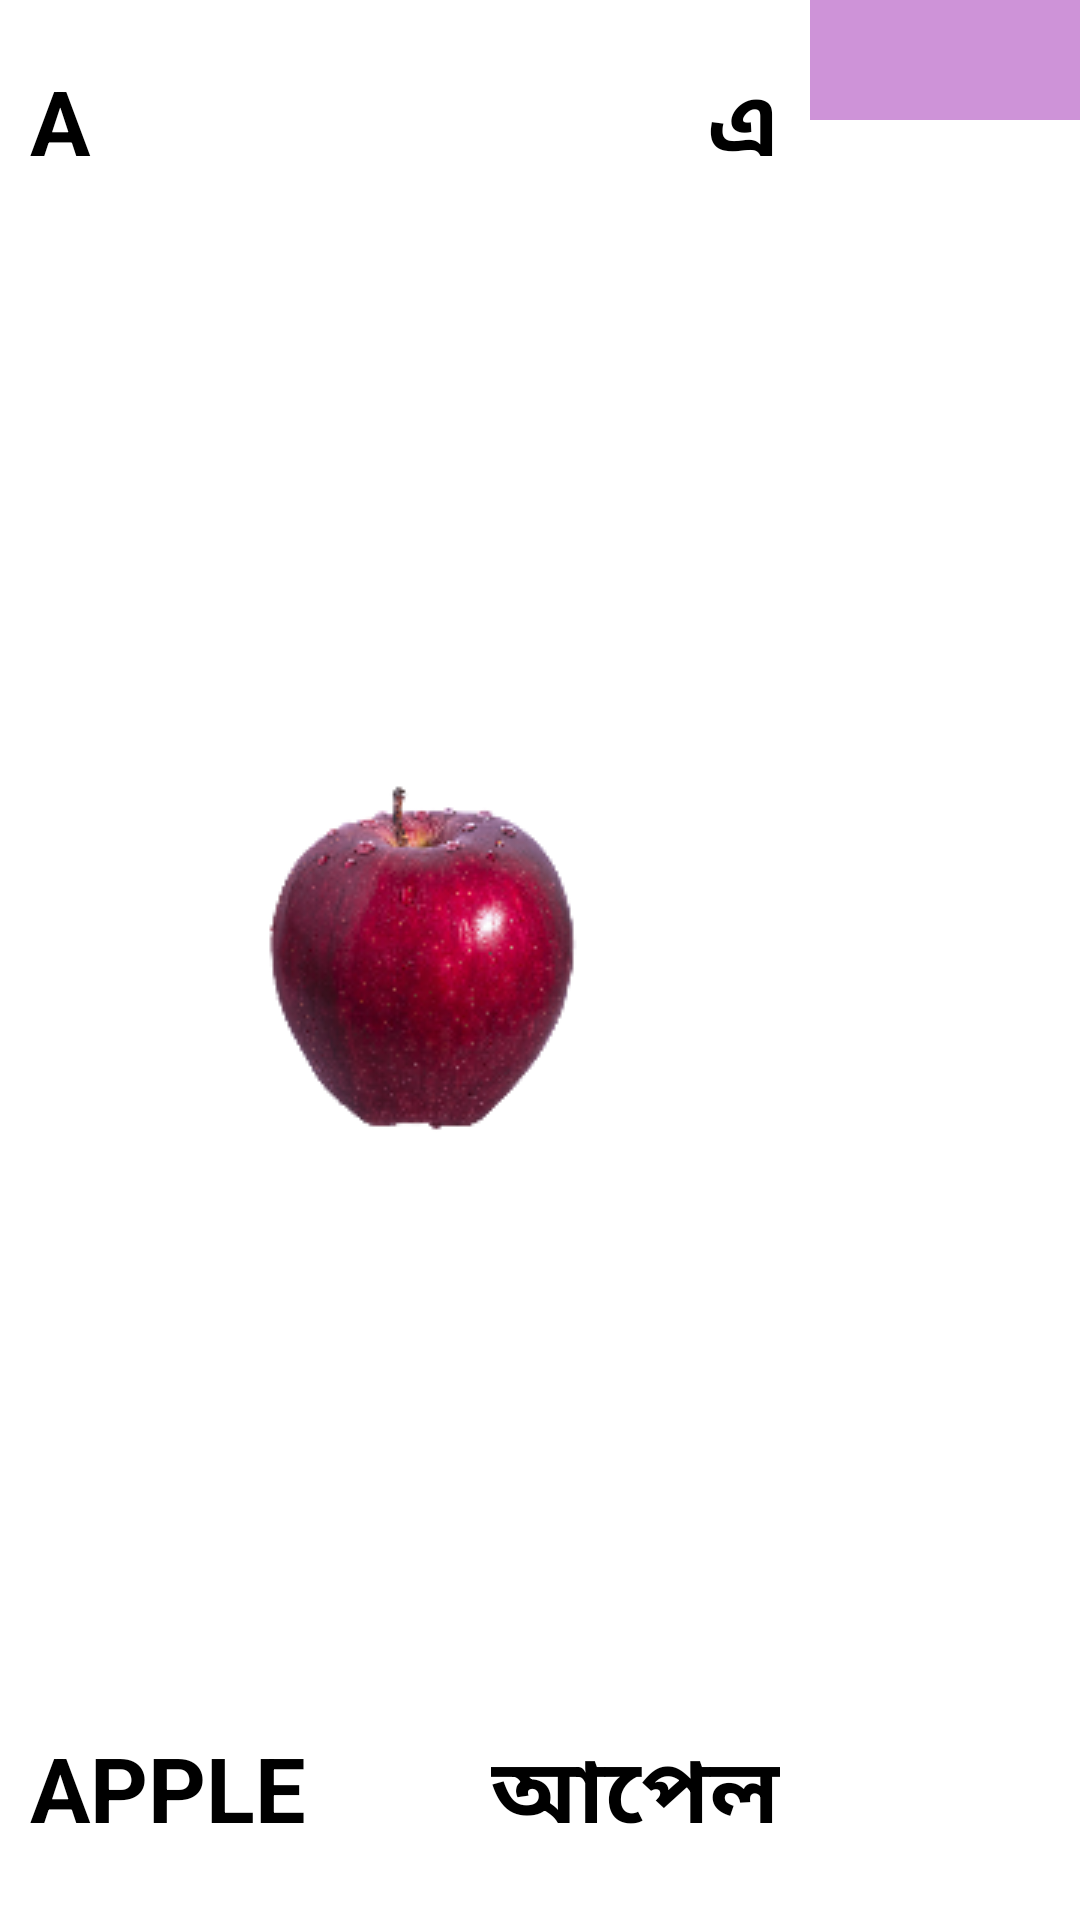

Where icons sit on this 1080px×1920px app screen, as (x1, y1, x2, y2):
apple: (269, 786, 574, 1130)
